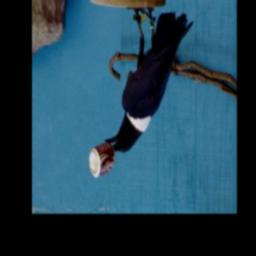Crow: (103, 6, 194, 155)
